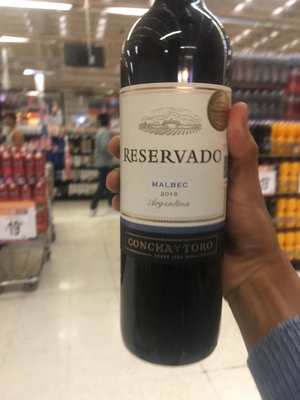reservado malbec: (105, 1, 237, 365)
